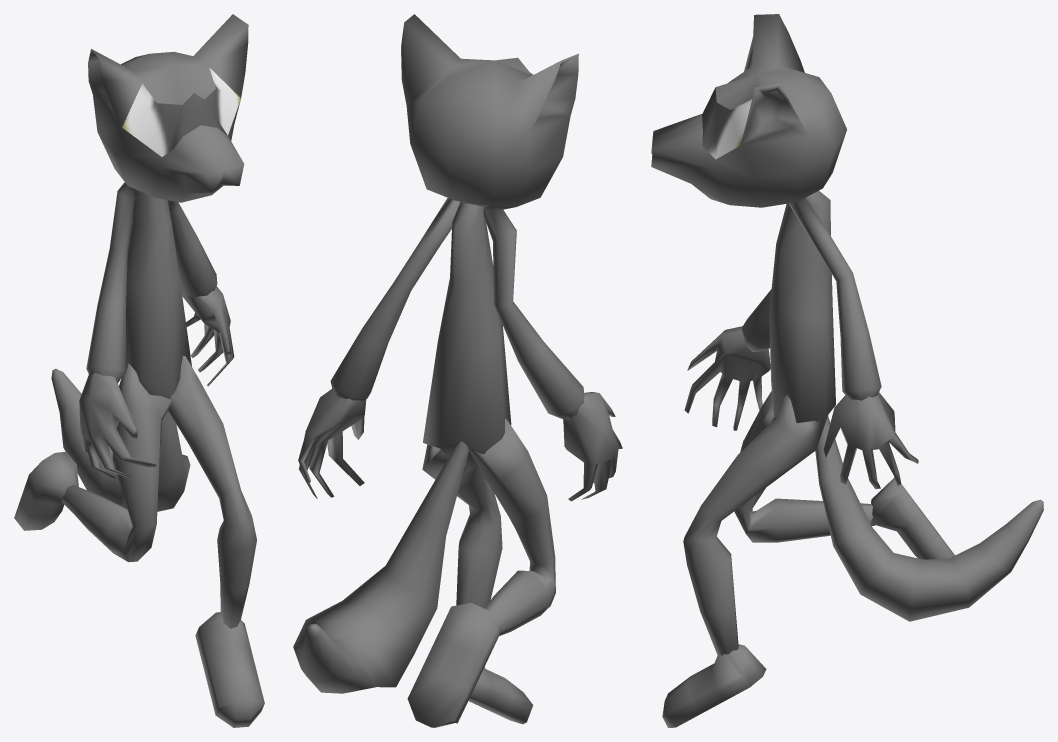
The model's file is werewolfrun6.obj.
3 renders of one model, left to right at view 1: azimuth 30°, elevation 25°; view 2: azimuth 150°, elevation 25°; view 3: azimuth 270°, elevation 25°, orthographic. The views are drawn at different scales.
Parts seen in each view (by area): view 1: Sphere001, Object001; view 2: Sphere001; view 3: Sphere001, Object001.
Part boxes in pixels (x1,y1,x2,y2): Sphere001: [14, 14, 264, 727]; Object001: [122, 67, 240, 156]; Sphere001: [293, 14, 622, 727]; Sphere001: [651, 14, 1043, 727]; Object001: [702, 87, 752, 159].
Bounding box in the file's own units: 53.75 × 163 × 87.18.
